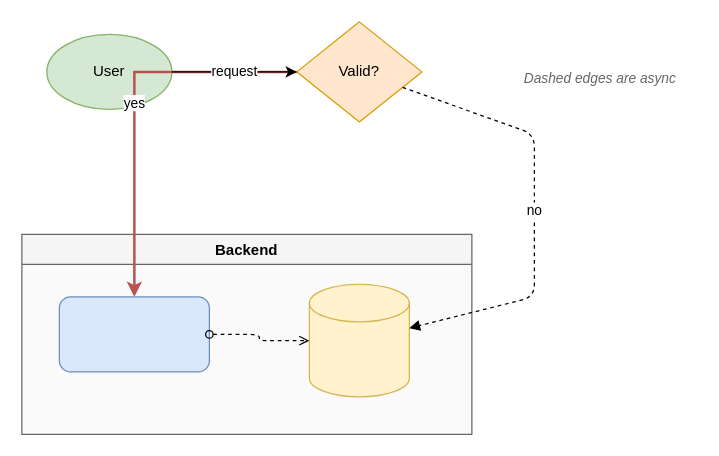
Image size: 719x456. Some labels were removed from this diagram. Here are the shapes that lost their labels. From the top down, the box of each, then its label:
(58, 296, 209, 372): API Service
(308, 283, 409, 397): Database
